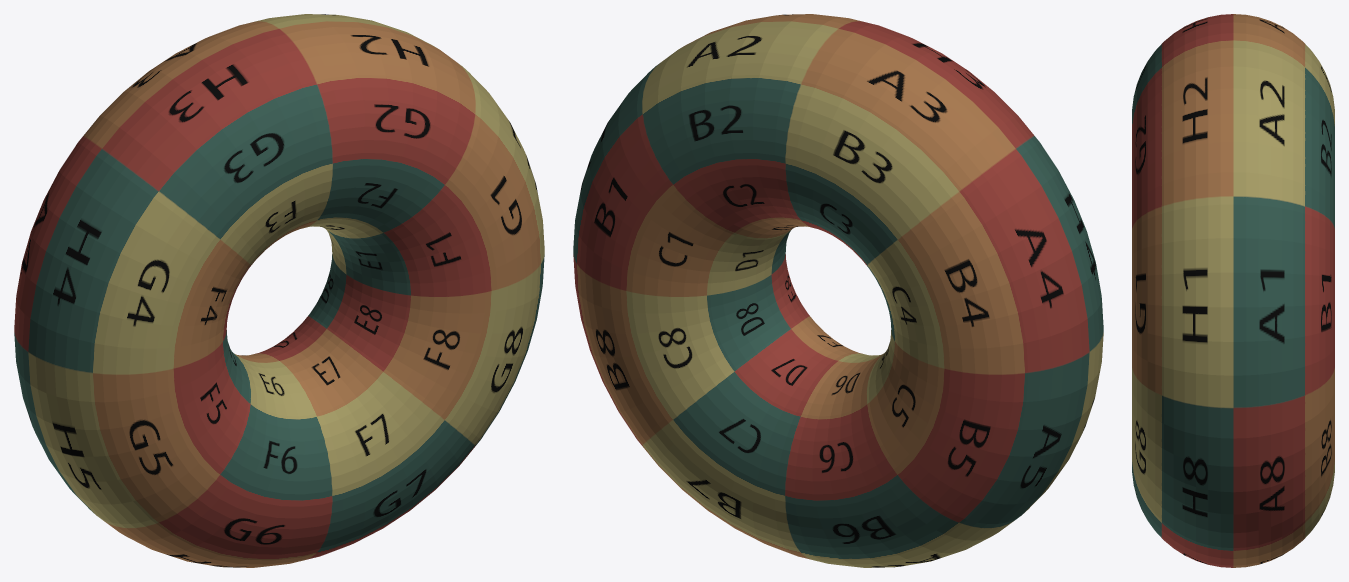
File: texture_torus_R4_r20.glb
3 renders of one model, left to right at view 1: azimuth 30°, elevation 25°; view 2: azimuth 150°, elevation 25°; view 3: azimuth 270°, elevation 25°, orthographic. The views are drawn at different scales.
Visible parts, largest first — view 1: world; view 2: world; view 3: world.
Boxes of the visible parts, x1=… form: world: x1=14, y1=14, x2=544, y2=567; world: x1=573, y1=14, x2=1103, y2=567; world: x1=1132, y1=14, x2=1334, y2=567.
Bounding box in the file's own units: 20 × 19.96 × 7.32.
Materials: 1 (1 with a texture image).
